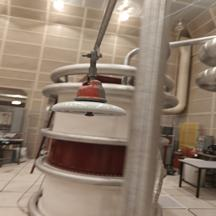insulator: (45, 75, 131, 126)
